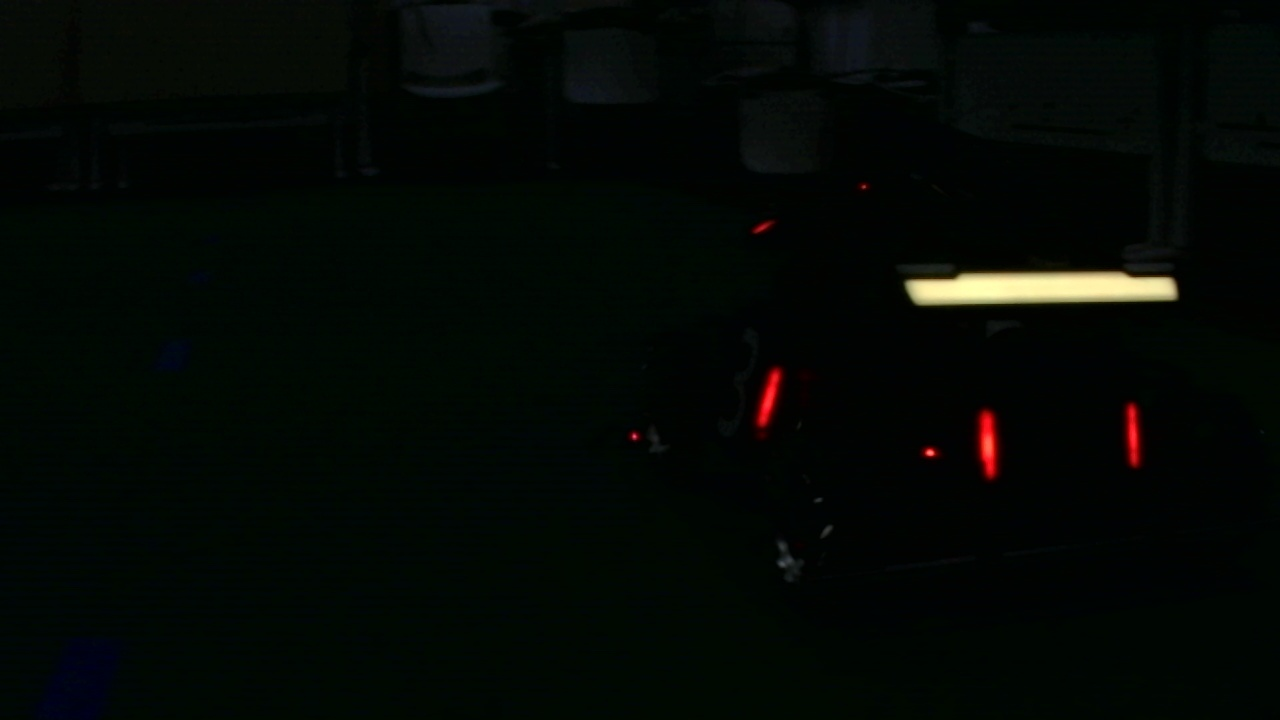lamp: (752, 363, 780, 431), (977, 398, 999, 477), (1126, 400, 1143, 472)
notpair1: (755, 362, 1003, 479)
pair1: (978, 400, 1141, 479)
